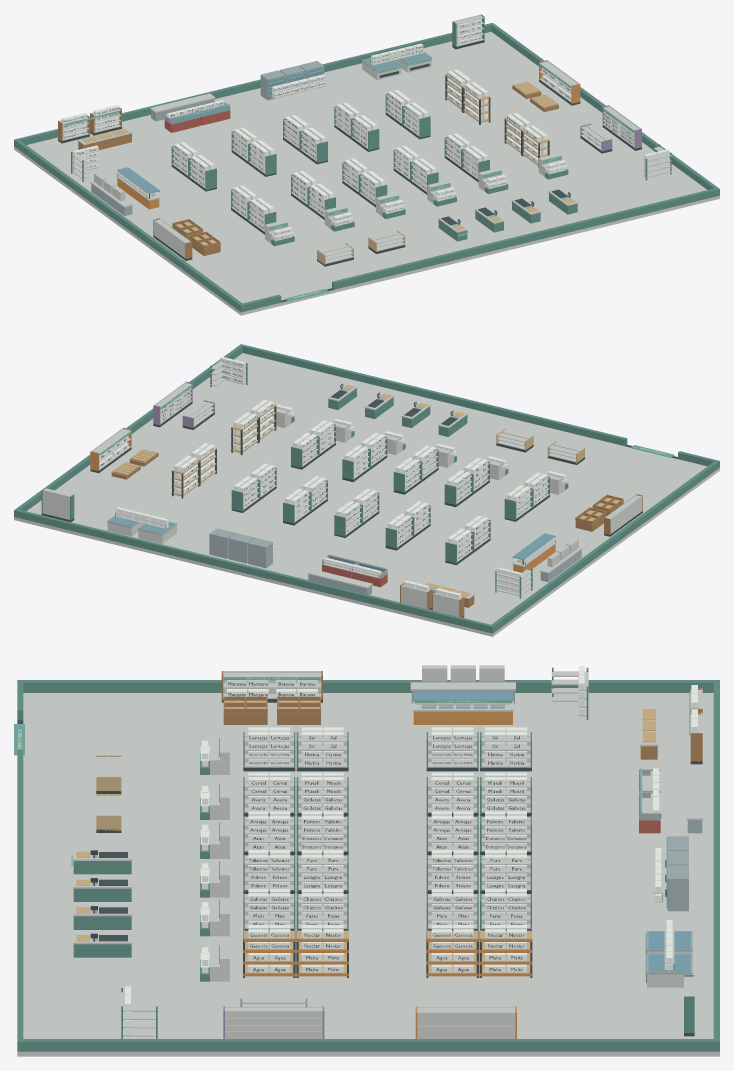
File: supermercado_1.glb
3 renders of one model, top to bottom at view 1: azimuth 30°, elevation 25°; view 2: azimuth 150°, elevation 25°; view 3: azimuth 270°, elevation 25°, orthographic. The views are drawn at different scales.
Parts seen in each view (by area): view 1: Supermercado / estructura; view 2: Supermercado / estructura; view 3: Supermercado / estructura.
Boxes of the visible parts, x1,y1,x2,y2 form: Supermercado / estructura: [14, 14, 719, 315]; Supermercado / estructura: [14, 344, 719, 636]; Supermercado / estructura: [17, 665, 719, 1056].
Bounding box in the file's own units: 56 × 3.66 × 46.21.
